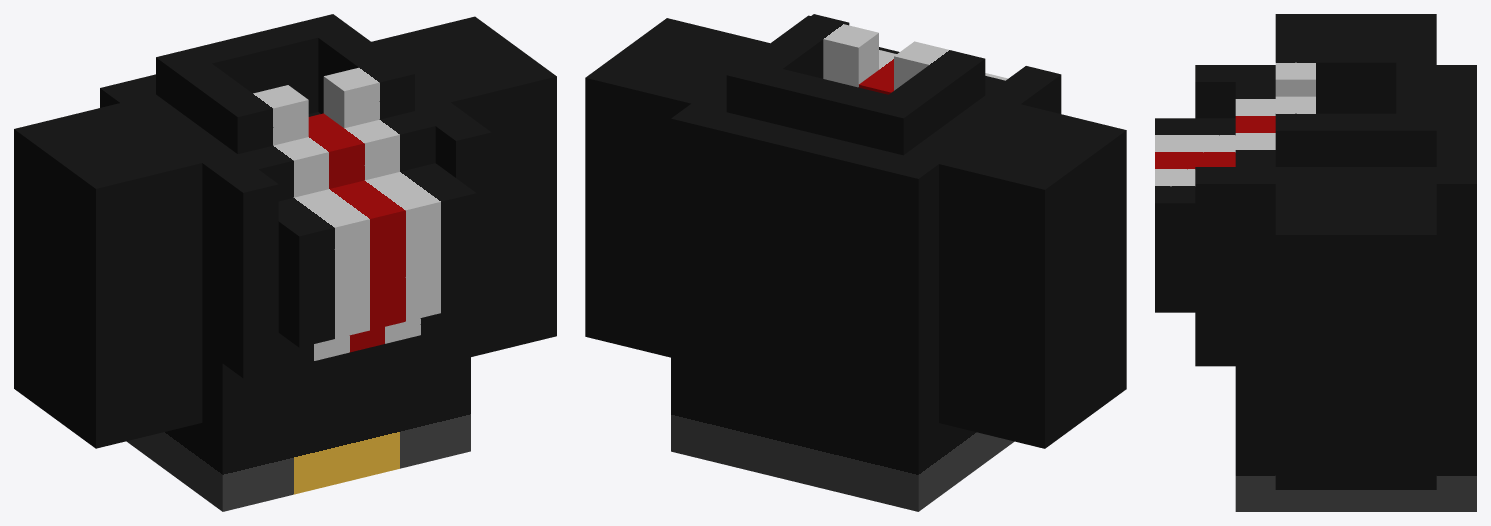
Rendered from Matrix_24.fbx.
The picture shows the model from 3 angles, left to right: view 1: azimuth 30°, elevation 25°; view 2: azimuth 150°, elevation 25°; view 3: azimuth 270°, elevation 25°; orthographic projection.
Visible parts, largest first — view 1: Matrix_24; view 2: Matrix_24; view 3: Matrix_24.
Boxes of the visible parts, x1,y1,x2,y2 form: Matrix_24: [14, 14, 556, 511]; Matrix_24: [585, 14, 1126, 511]; Matrix_24: [1155, 14, 1476, 511].
Bounding box in the file's own units: 13 × 10 × 8.
Materials: 1 (1 with a texture image).
